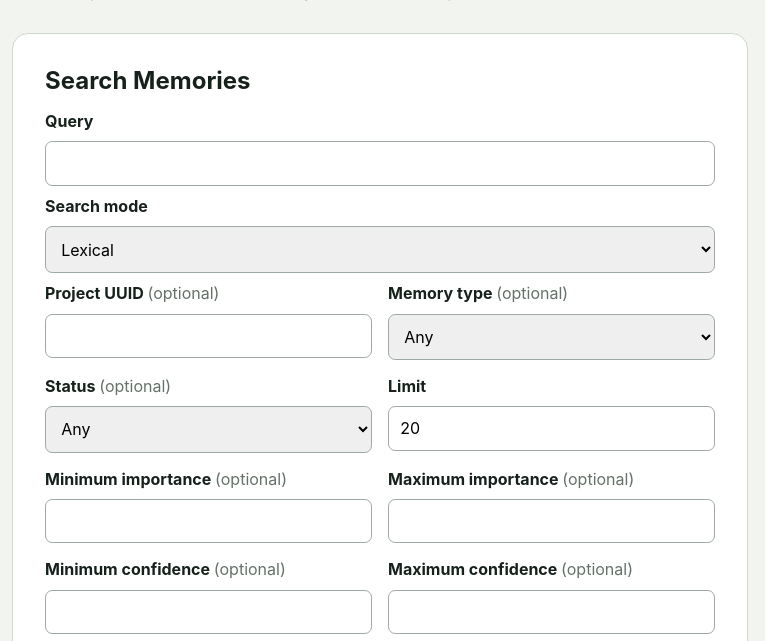
Test: Search › validates request limits locally
Type "needle" into the field labelled "Query". click: coordinates (380, 163)
box: [45,141,715,186]
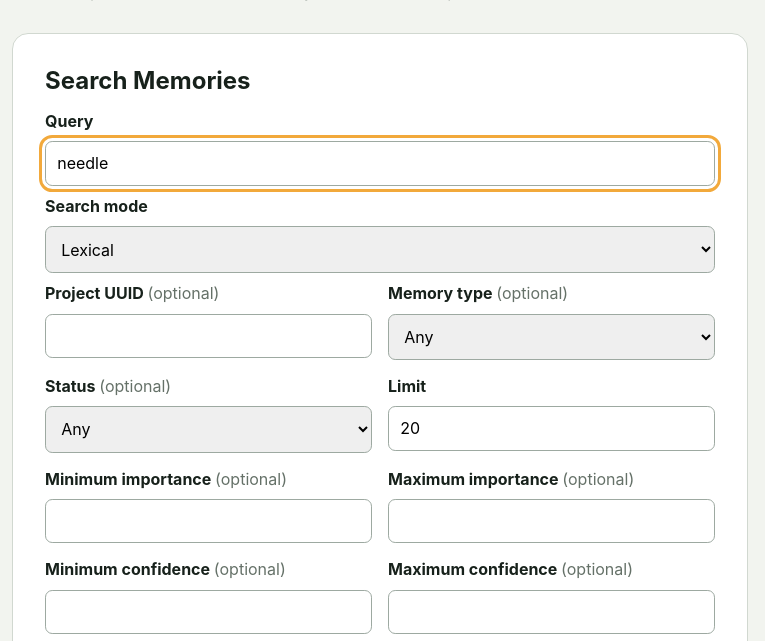
Replace the text in the number field labelled "Limit" with "101". click: coordinates (552, 428)
box: [388,406,715,451]
(page scrolled)
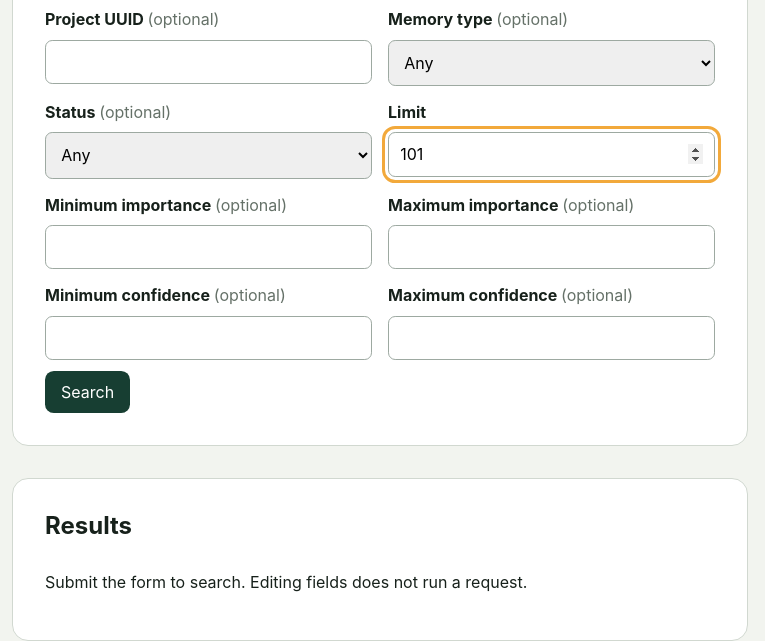
Click the button "Search". click: coordinates (88, 392)
box: [45,371,130,413]
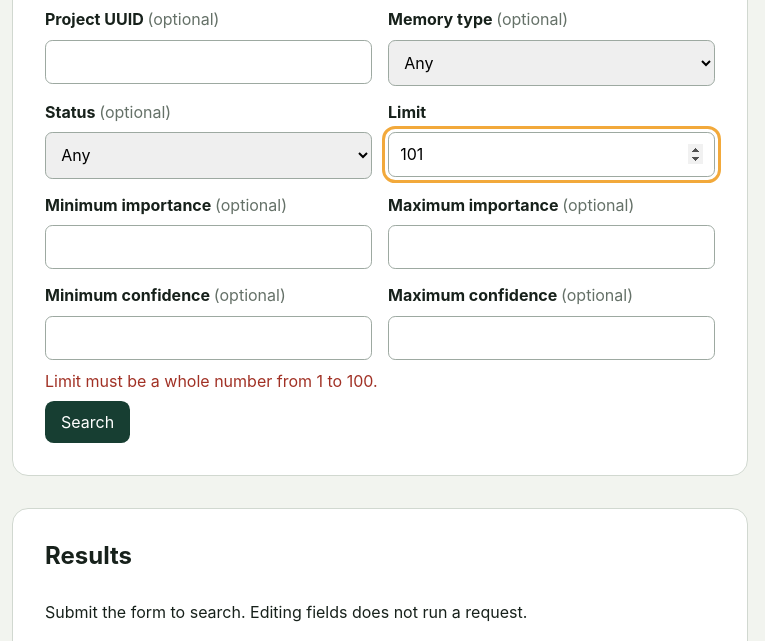
Result: the message shows "1 to 100" at [45,371,378,391]
